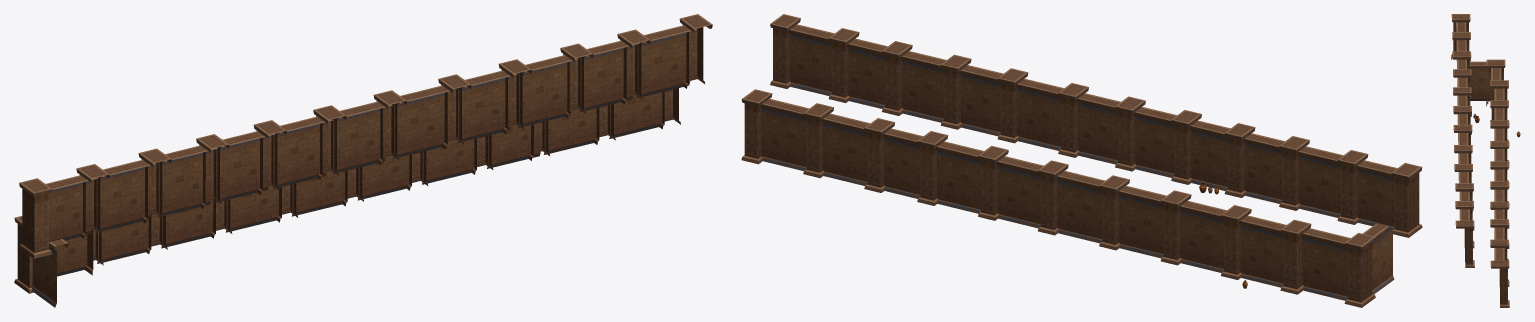
The model's file is Area_10_2.fbx.
3 views of the same model, side by side, from view 1: azimuth 30°, elevation 25°; view 2: azimuth 150°, elevation 25°; view 3: azimuth 270°, elevation 25° (orthographic). The views are drawn at different scales.
Parts seen in each view (by area): view 1: Area_10_2; view 2: Area_10_2; view 3: Area_10_2.
Boxes of the visible parts, x1,y1,x2,y2 form: Area_10_2: (14, 14, 712, 307); Area_10_2: (741, 14, 1422, 307); Area_10_2: (1451, 14, 1520, 307).
Bounding box in the file's own units: 8360 × 1475 × 1146.
